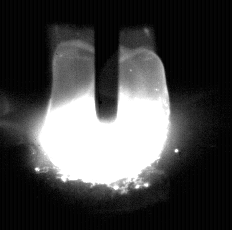arame: (97, 0, 119, 124)
poca: (37, 0, 169, 230)
